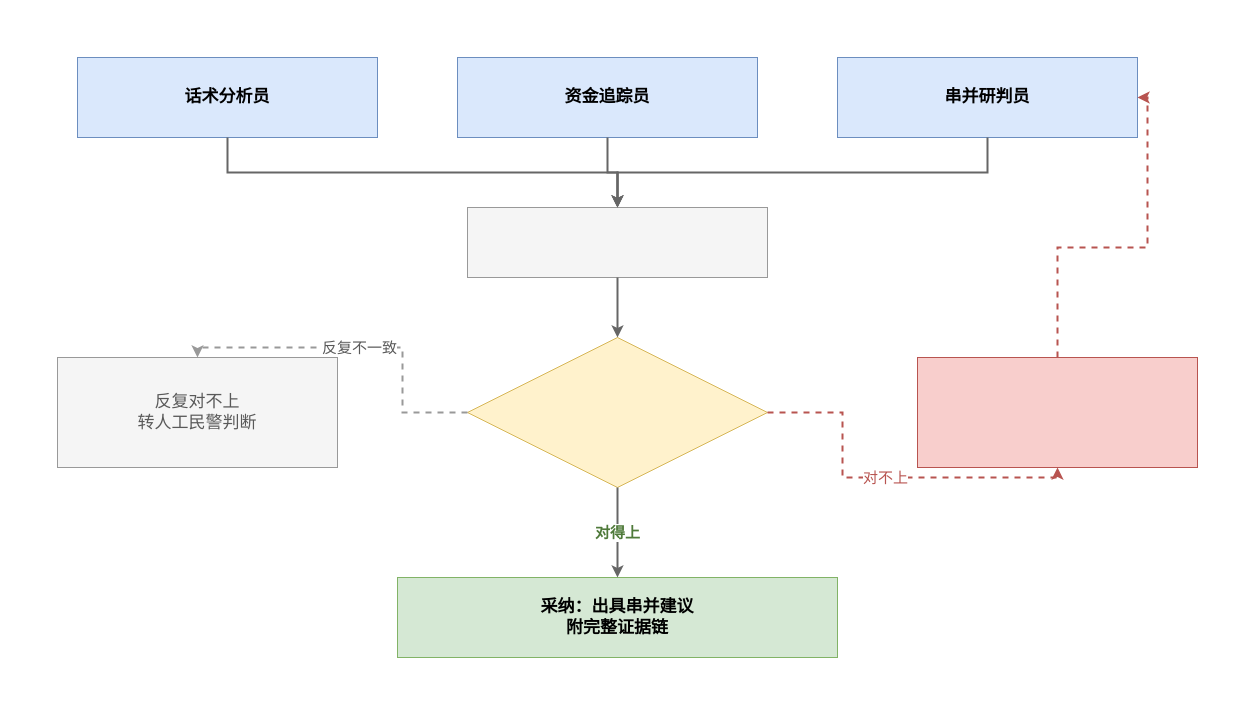
This 1255x715 diagram has some shape labels left out. Each missing label, with the centre of its shape:
"汇总三方线索" goes at point 617,242.
"证据对得上吗" goes at point 617,412.
"退回相关专家 重新查证" goes at point 1057,412.
